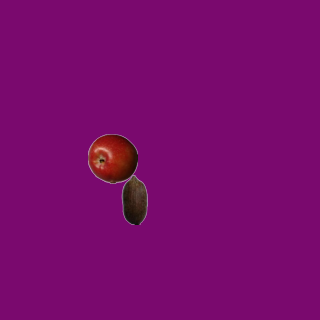Apple Braeburn: (87, 133, 137, 183)
Nut Pecan: (109, 174, 159, 224)
